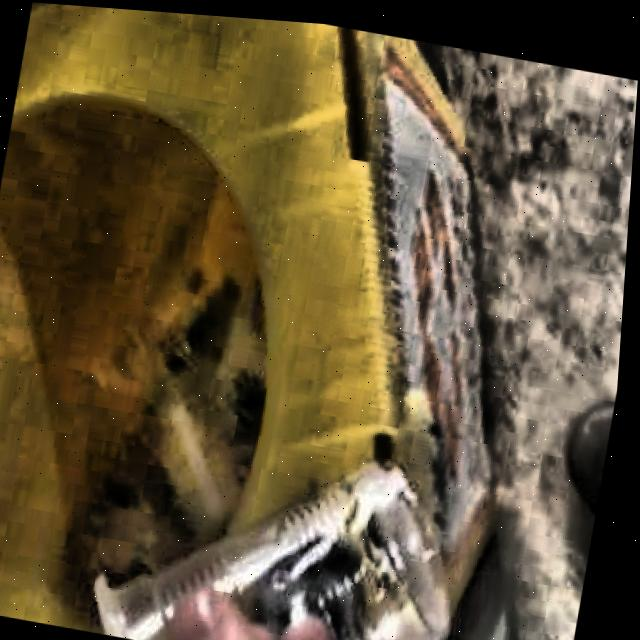plastic: (103, 454, 459, 640)
